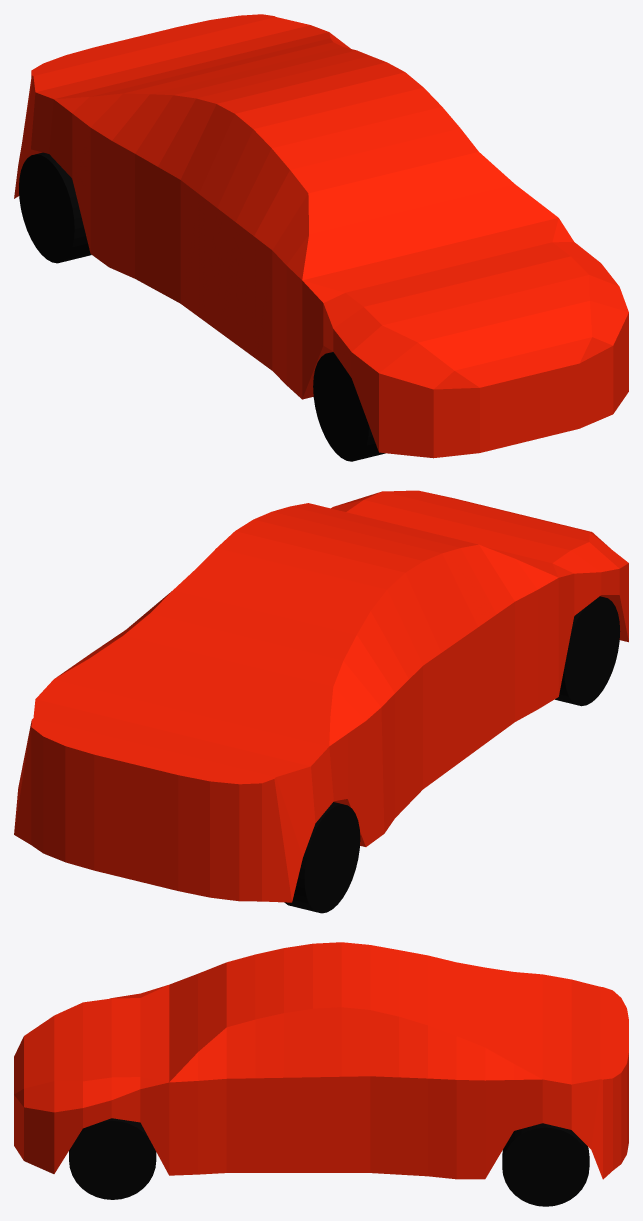
File: CARv4.glb
The picture shows the model from 3 angles, top to bottom: view 1: azimuth 30°, elevation 25°; view 2: azimuth 150°, elevation 25°; view 3: azimuth 270°, elevation 25°; orthographic projection. The views are drawn at different scales.
Parts seen in each view (by area): view 1: Cube, Cylinder, Cylinder.003; view 2: Cube, Cylinder, Cylinder.003; view 3: Cube, Cylinder.002, Cylinder.004.
Part boxes in pixels (x1,y1,x2,y2): Cube: (14,14,628,458); Cylinder: (19,152,91,263); Cylinder.003: (313,352,385,461); Cube: (14,490,628,902); Cylinder: (284,802,360,913); Cylinder.003: (555,596,620,706); Cube: (14,942,628,1179); Cylinder.002: (502,1123,589,1206); Cylinder.004: (69,1118,156,1199).
Size of the model in its own units: 6.49 by 4.93 by 15.47.
